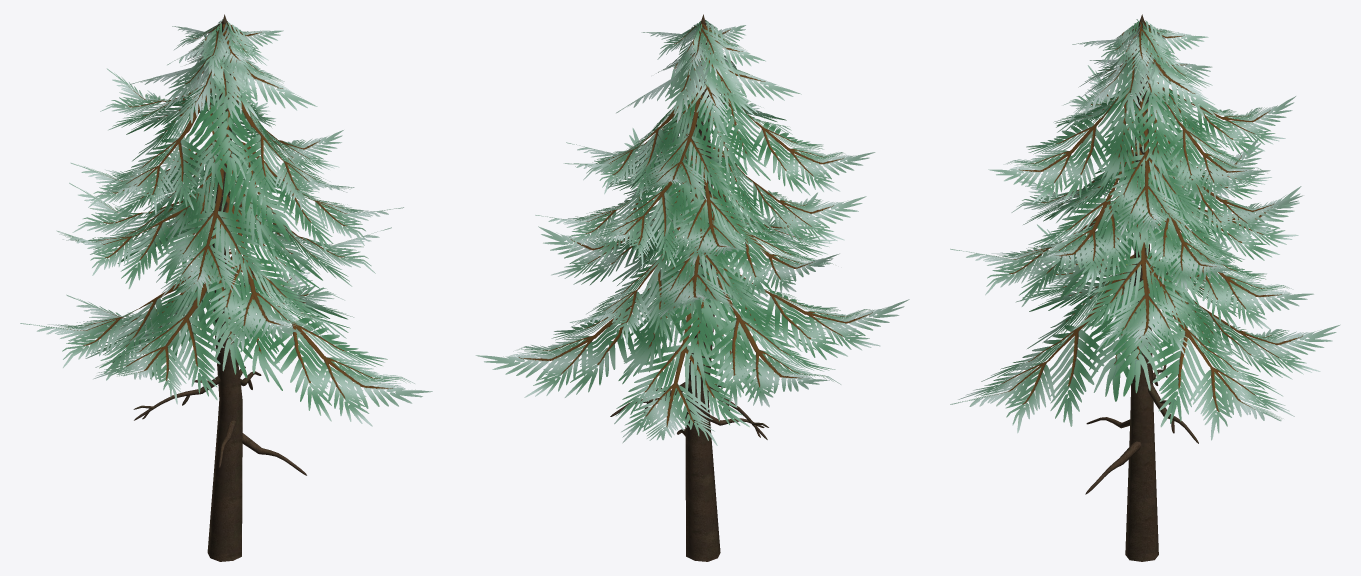
File: pine_tree_snowy.glb
3 views of the same model, side by side, from view 1: azimuth 30°, elevation 25°; view 2: azimuth 150°, elevation 25°; view 3: azimuth 270°, elevation 25° (orthographic).
Visible parts, largest first — view 1: PineTree_1; view 2: PineTree_1; view 3: PineTree_1.
Boxes of the visible parts, bbox=[...] form: PineTree_1: bbox=[20, 14, 432, 561]; PineTree_1: bbox=[475, 14, 909, 561]; PineTree_1: bbox=[950, 14, 1340, 561].
Bounding box in the file's own units: 0.6613 × 1 × 0.6738.
Materials: 2 (2 with a texture image).
